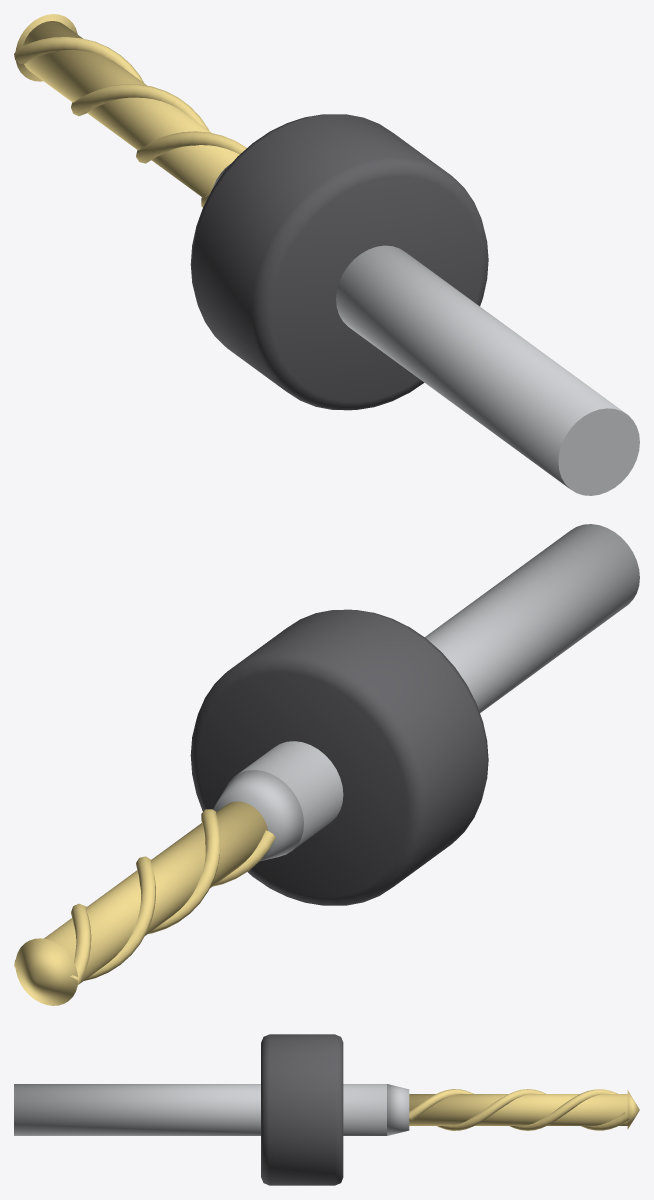
Rendered from drill18_2p5.glb.
3 renders of one model, top to bottom at view 1: azimuth 30°, elevation 25°; view 2: azimuth 150°, elevation 25°; view 3: azimuth 270°, elevation 25°, orthographic. The views are drawn at different scales.
Visible parts, largest first — view 1: Cylinder.002, Cylinder.001, Cylinder, flute, flute.001, Cone.001; view 2: Cylinder.002, Cylinder.001, Cylinder, Cone, Cone.001, flute, flute.001; view 3: Cylinder.001, Cylinder.002, Cylinder, flute, flute.001, Cone, Cone.001.
Boxes of the visible parts, x1,y1,x2,y2 form: Cylinder.002: (190, 114, 488, 410); Cylinder.001: (336, 245, 639, 495); Cylinder: (23, 21, 239, 197); flute: (14, 37, 246, 163); flute.001: (71, 84, 210, 207); Cone.001: (15, 14, 77, 81); Cylinder.002: (190, 609, 488, 905); Cylinder.001: (237, 524, 639, 849); Cylinder: (44, 801, 267, 983); Cone: (213, 770, 303, 861); Cone.001: (15, 938, 77, 1005); flute: (70, 809, 220, 984); flute.001: (14, 830, 275, 980); Cylinder.001: (14, 1084, 386, 1135); Cylinder.002: (261, 1034, 343, 1185); Cylinder: (409, 1094, 627, 1125); flute: (409, 1089, 617, 1130); flute.001: (437, 1089, 629, 1130); Cone: (387, 1084, 409, 1135); Cone.001: (627, 1090, 639, 1129).
Size of the model in its own units: 0.00917 by 0.00917 by 0.038.
